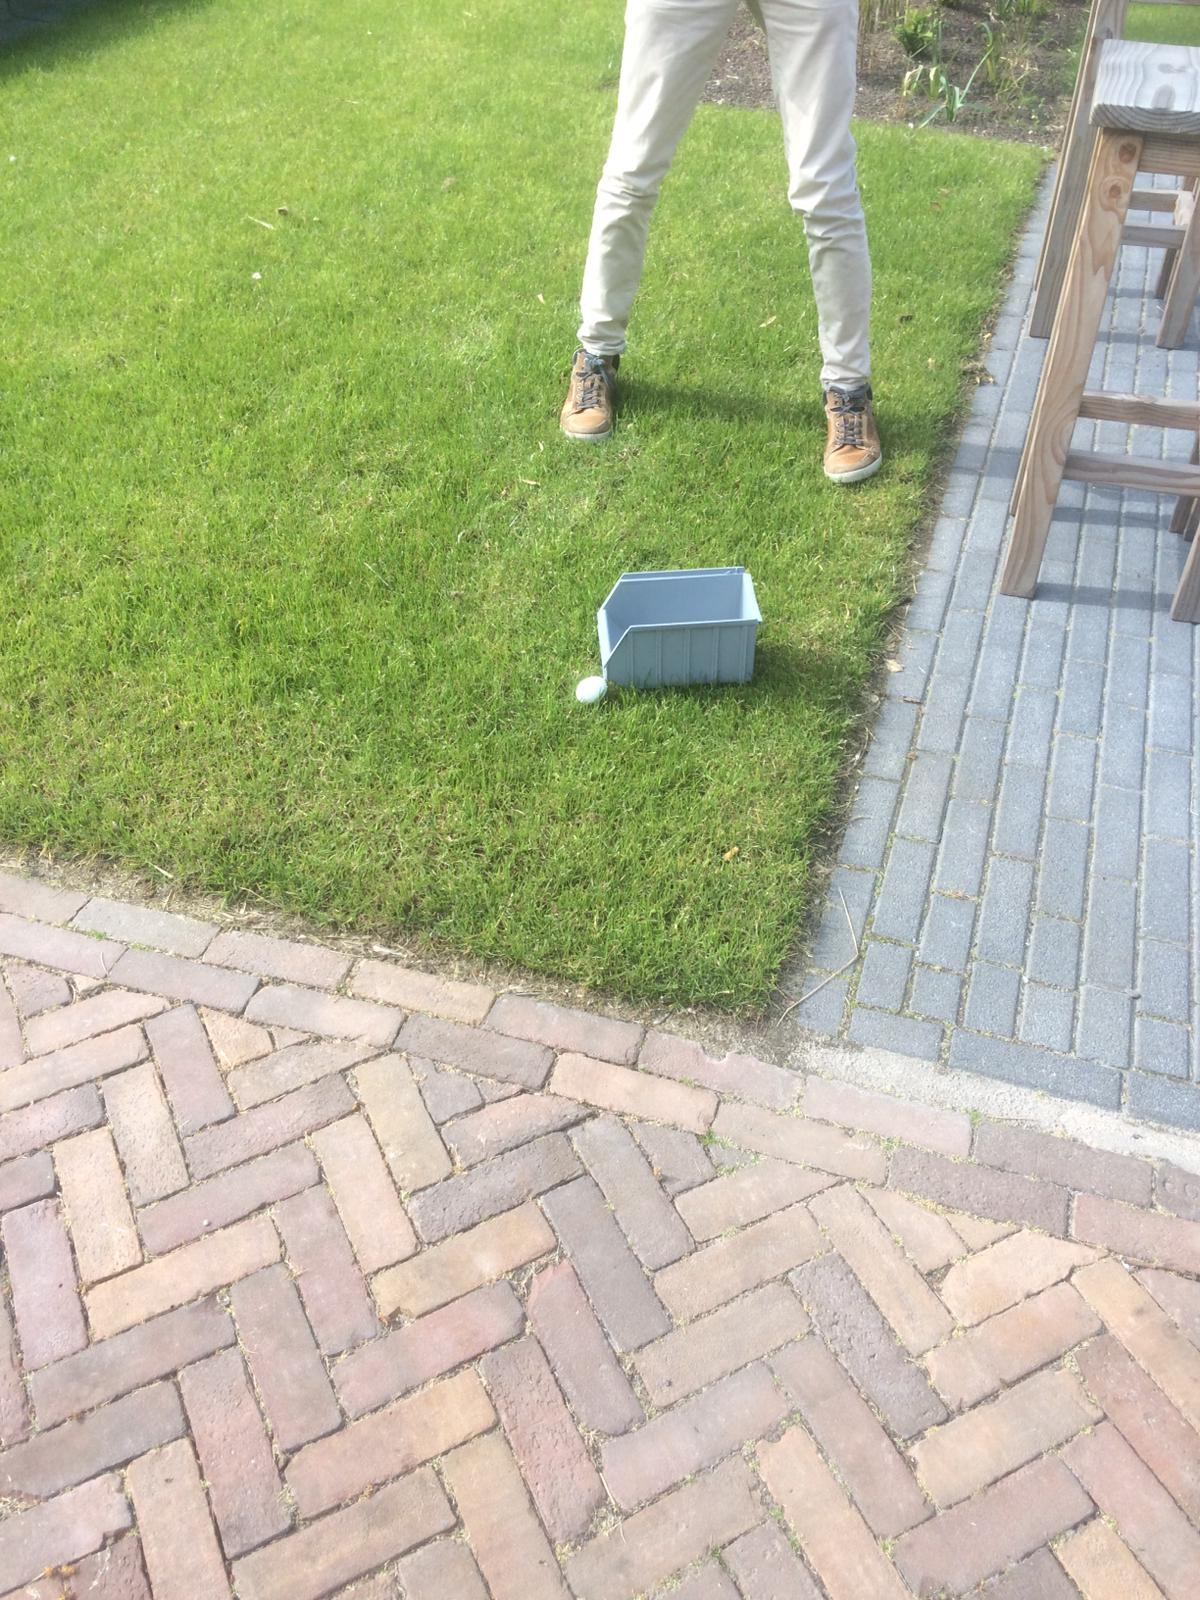egg: (563, 668, 618, 716)
tray: (591, 558, 766, 690)
